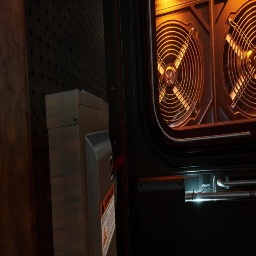SafetySwitchPanel ,: (45, 89, 125, 256)
